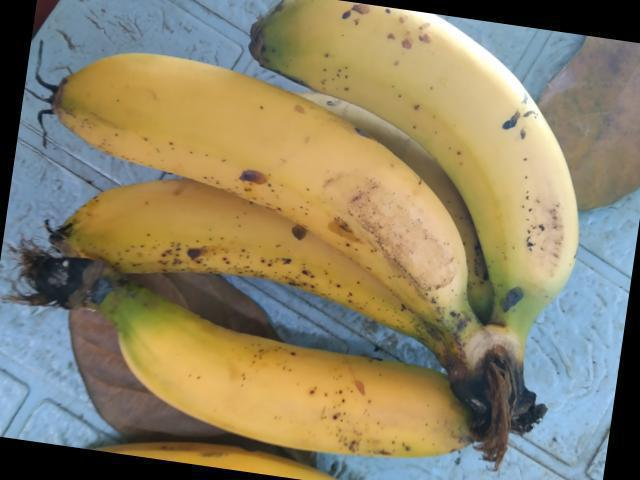ripe: (242, 0, 586, 303), (36, 54, 482, 279), (41, 159, 431, 352), (108, 297, 494, 479)
